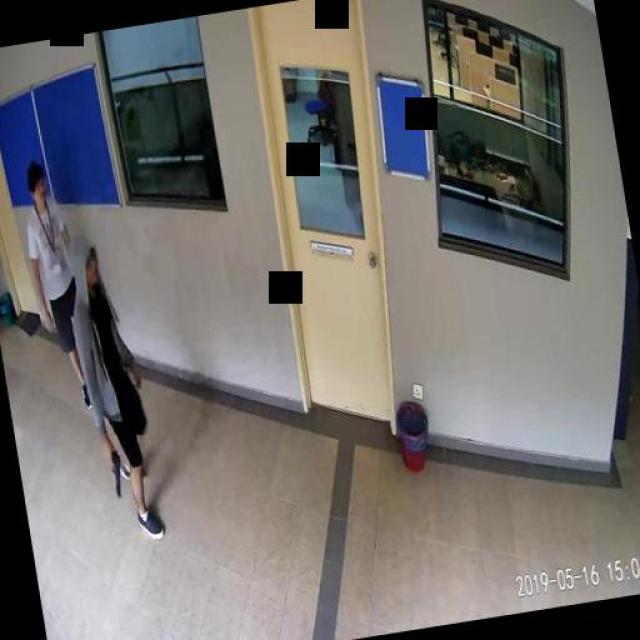gun: (104, 447, 124, 495)
